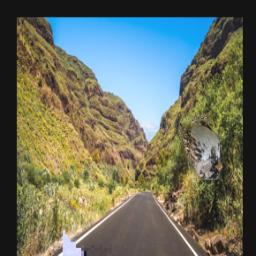Crow: (63, 22, 142, 256)
Sparrow: (178, 113, 222, 181)
